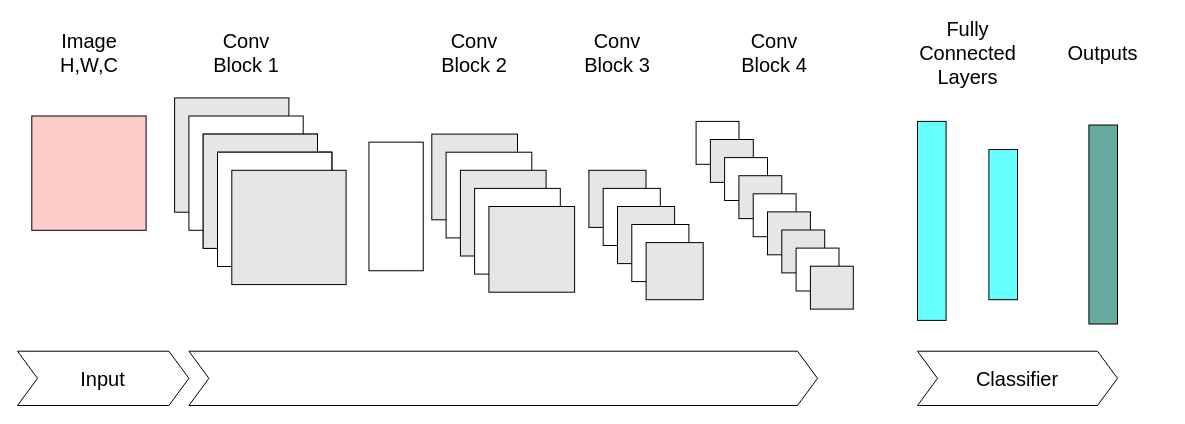
The diagram is 1185 pixels wide and 424 high, and some of its shapes have lost their labels. Each missing label, with the box of its shape:
Feature Extractor: (188, 350, 818, 406)
Subsampling: (368, 141, 423, 271)
